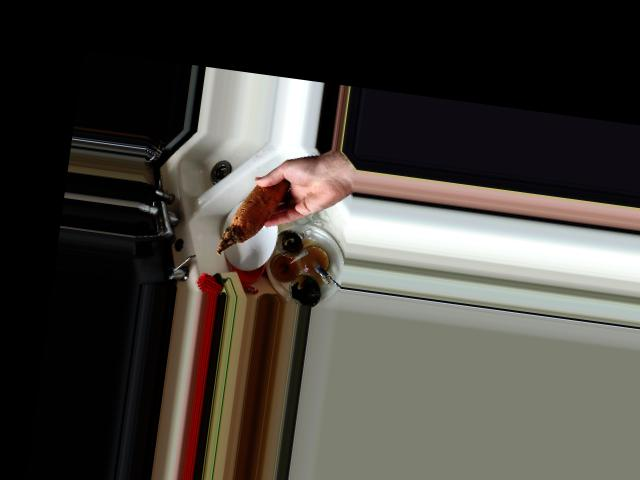sweet_potato: (216, 164, 296, 264)
